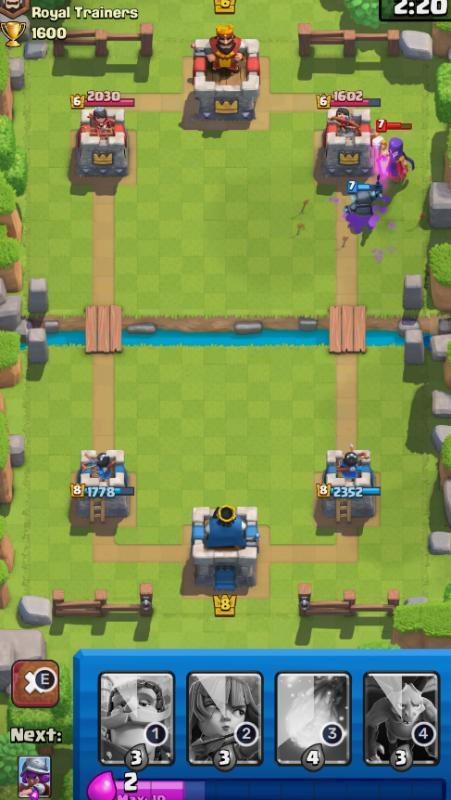enemy_witch: (369, 114, 419, 186)
player_mini_pekka: (338, 179, 388, 226)
